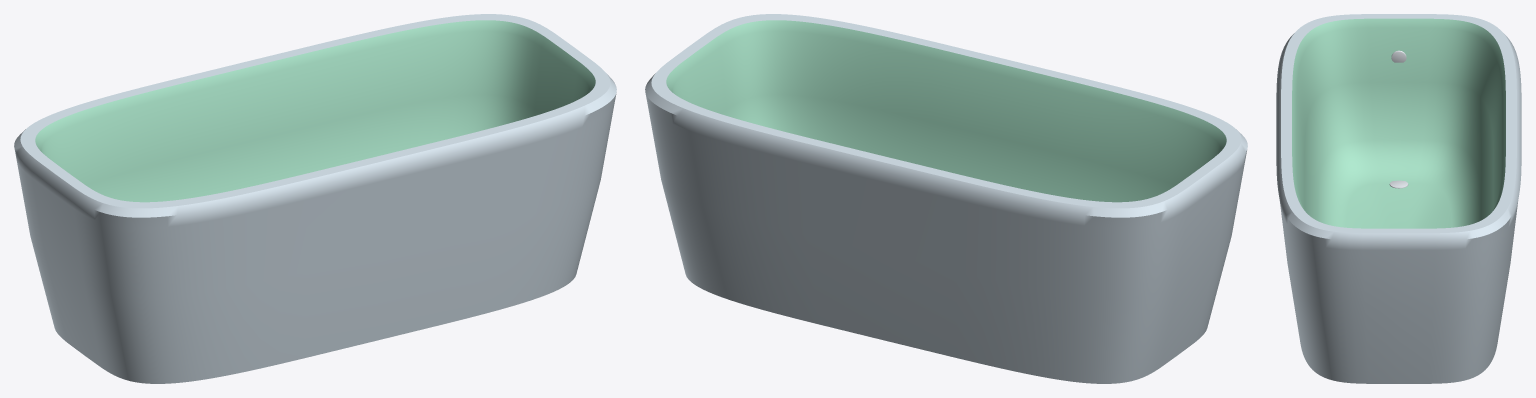
File: banheira_solta_menta.glb
The picture shows the model from 3 angles, left to right: view 1: azimuth 30°, elevation 25°; view 2: azimuth 150°, elevation 25°; view 3: azimuth 270°, elevation 25°; orthographic projection. The views are drawn at different scales.
Visible parts, largest first — view 1: banheira_solta_menta; view 2: banheira_solta_menta; view 3: banheira_solta_menta.
Boxes of the visible parts, left/top/right/bottom form: banheira_solta_menta: left=14, top=14, right=616, bottom=383; banheira_solta_menta: left=645, top=14, right=1247, bottom=383; banheira_solta_menta: left=1276, top=14, right=1521, bottom=383.
Bounding box in the file's own units: 1.68 × 0.585 × 0.78.
1 material, 1 textured.
